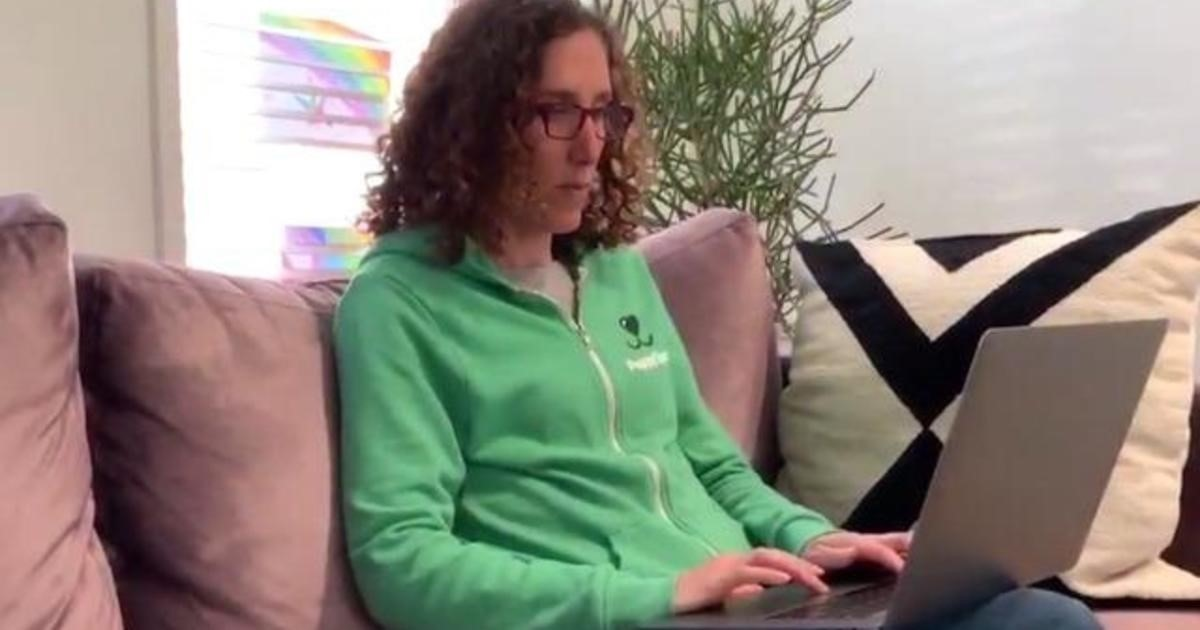face_no_mask: (442, 4, 611, 245)
